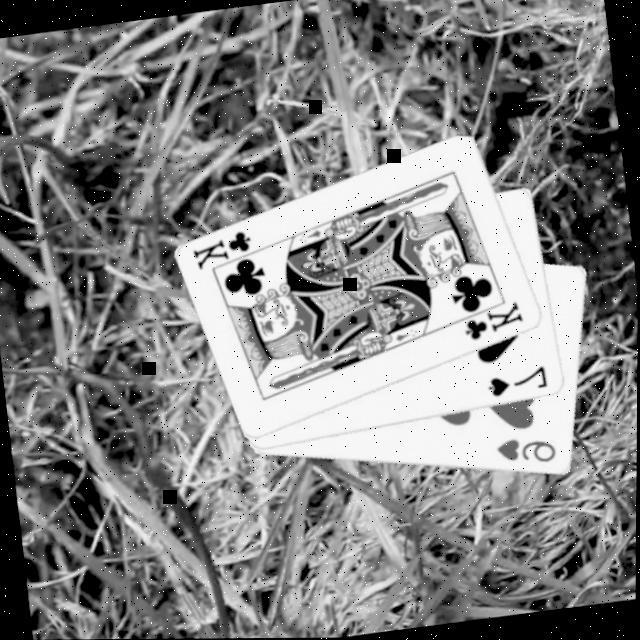7S: (484, 361, 553, 399)
9H: (492, 428, 562, 471)
KC: (190, 222, 268, 276), (450, 292, 529, 344)
